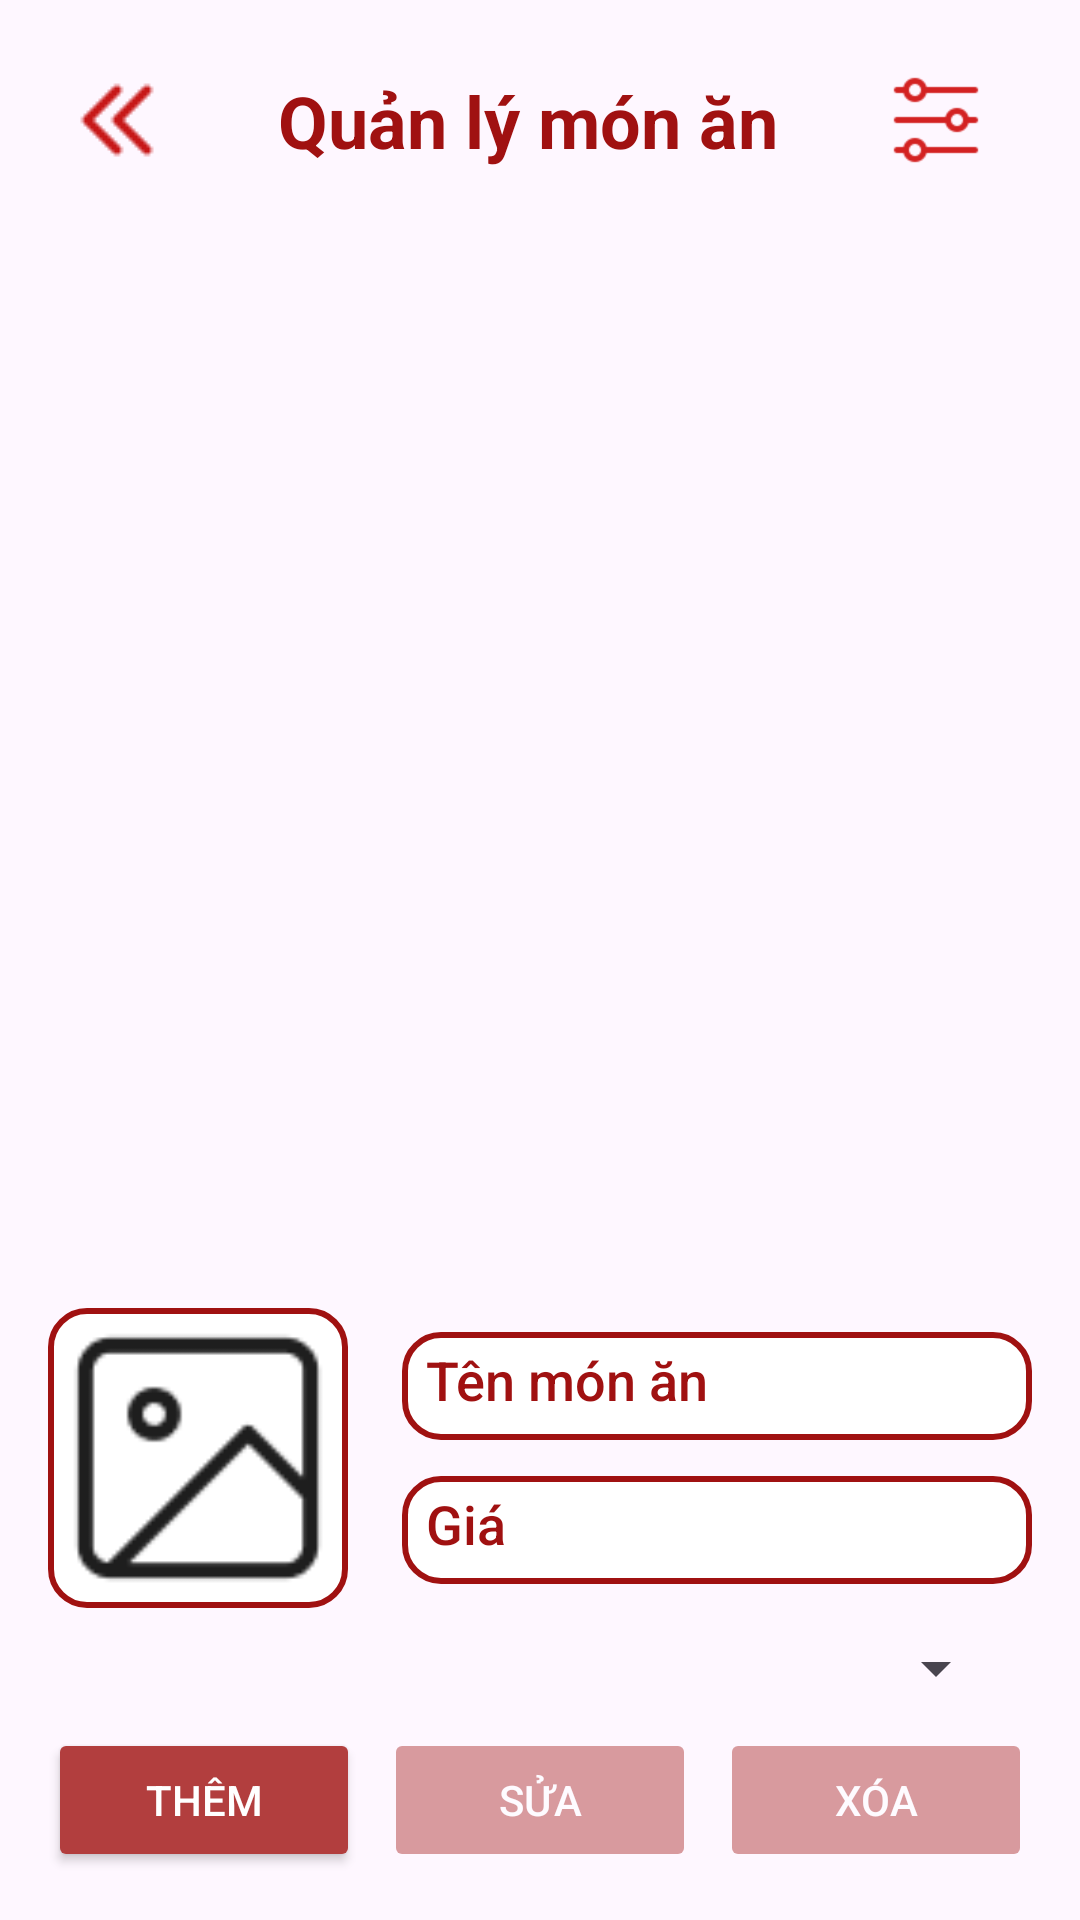

Icon click points for this 1080px×1920px phone screenshot, format point (x, y):
back: point (117, 120)
Tùy chọn: point (936, 120)
